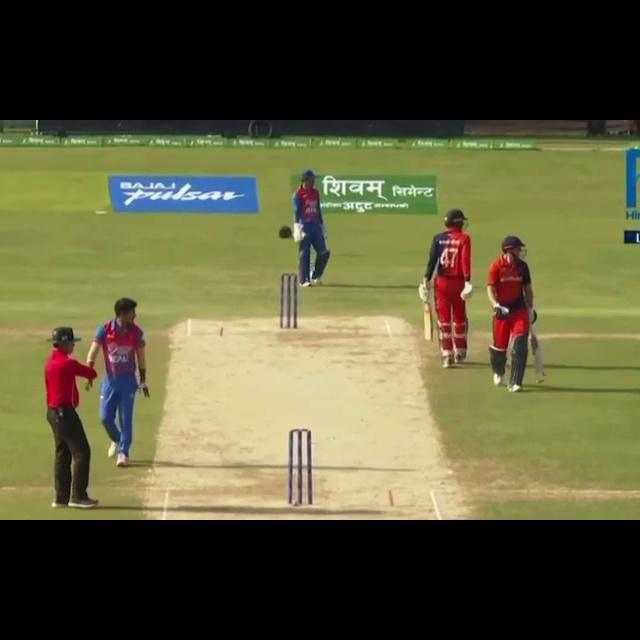umpire: (27, 324, 116, 512)
